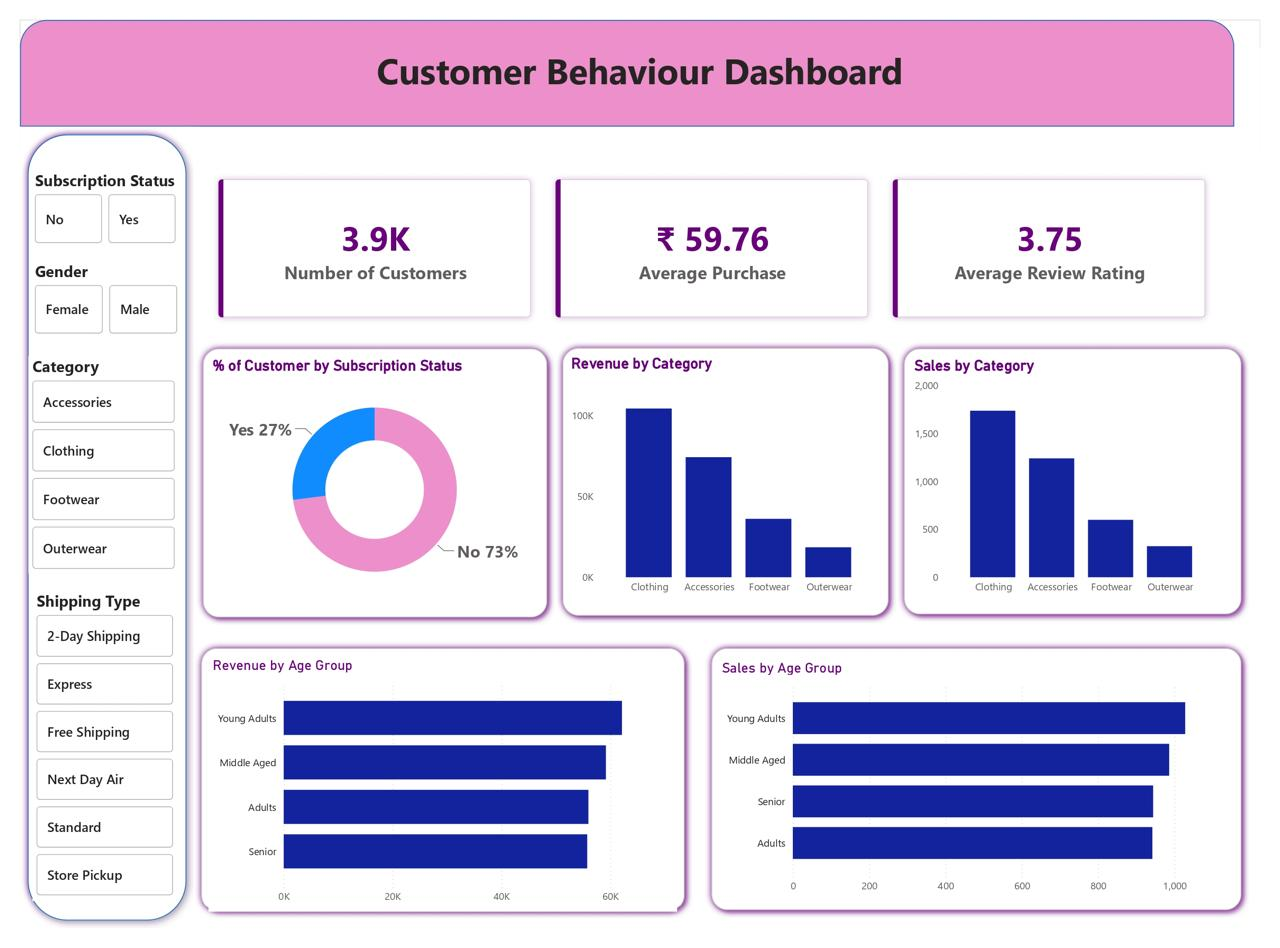

The page's visual inventory and layout, read from the dashboard file:
{"tool":"powerbi","page":{"name":"Page 1","canvas":[1500,1100],"ordinal":0},"visuals":[{"type":"cardVisual","fields":{"Data":["customer_behaviour customer_shopping.Number of Customers","customer_behaviour customer_shopping.Average Purchase","customer_behaviour customer_shopping.Average Review Rating"]},"box":[211.7,165,1250,223.3],"z":0},{"type":"shape","box":[0,0,1468.6,128.6],"z":1000},{"type":"textbox","box":[0,27.1,1500,84.3],"z":2000},{"type":"shape","box":[211.7,388.3,435,343.3],"z":3000},{"type":"donutChart","title":"% of Customer by Subscription Status","fields":{"Category":["customer_behaviour customer_shopping.subscription_status"],"Y":["customer_behaviour customer_shopping.Number of Customers"]},"box":[228.3,406.7,401.7,301.7],"z":4000},{"type":"shape","box":[0,128.6,210,971.4],"z":5000},{"type":"shape","box":[646.7,386.7,413.3,343.3],"z":5000,"group":"g4"},{"type":"advancedSlicerVisual","title":"Subscription Status","fields":{"Values":["customer_behaviour customer_shopping.subscription_status"]},"box":[12.9,181.4,180,94.3],"z":6000},{"type":"shape","box":[1060,388.3,426.7,340],"z":6000,"group":"g3"},{"type":"clusteredColumnChart","title":"Revenue by Category","fields":{"Y":["Sum(customer_behaviour customer_shopping.purchase_amount)"],"Category":["customer_behaviour customer_shopping.category"]},"box":[662.1,403.4,379.9,300.6],"z":6000,"group":"g4"},{"type":"advancedSlicerVisual","title":"Gender","fields":{"Values":["customer_behaviour customer_shopping.gender"]},"box":[12.9,291.4,182.9,92.9],"z":7000},{"type":"advancedSlicerVisual","title":"Category","fields":{"Values":["customer_behaviour customer_shopping.category"]},"box":[10,405.7,182.9,264.3],"z":8000},{"type":"clusteredColumnChart","title":"Sales by Category","fields":{"Category":["customer_behaviour customer_shopping.category"],"Y":["CountNonNull(customer_behaviour customer_shopping.customer_id)"]},"box":[1077.3,407.3,376.5,297.3],"z":8000,"group":"g3"},{"type":"advancedSlicerVisual","title":"Shipping Type","fields":{"Values":["customer_behaviour customer_shopping.shipping_type"]},"box":[15,690,175,376.7],"z":9000},{"type":"group","id":"g1","title":"Group 1","box":[210,750,603.3,338.3],"z":10000},{"type":"group","id":"g2","title":"Group 2","box":[826.7,750,660,336.7],"z":11000},{"type":"group","id":"g3","title":"Group 3","box":[1060,388.3,426.7,340],"z":12000},{"type":"group","id":"g4","title":"Group 4","box":[646.7,386.7,413.3,343.3],"z":13000},{"type":"shape","box":[210,750,603.3,338.3],"z":14000,"group":"g1"},{"type":"shape","box":[826.7,750,660,336.7],"z":15000,"group":"g2"},{"type":"clusteredBarChart","title":"Revenue by Age Group","fields":{"Y":["Sum(customer_behaviour customer_shopping.purchase_amount)"],"Category":["customer_behaviour customer_shopping.age_group"]},"box":[228.3,769.6,566.7,310.3],"z":16000,"group":"g1"},{"type":"clusteredBarChart","title":"Sales by Age Group","fields":{"Category":["customer_behaviour customer_shopping.age_group"],"Y":["CountNonNull(customer_behaviour customer_shopping.customer_id)"]},"box":[843.9,772.7,618.3,293.9],"z":17000,"group":"g2"}]}

Visuals, with their boxes in screenshot pixels (x1, y1, x2, y2), scaled from the page's 1500x1100 canvas onto the 1280x948 screenshot:
cardVisual - customer_behaviour customer_shopping.Number of Customers x customer_behaviour customer_shopping.Average Purchase: bbox=[181, 142, 1247, 335]
shape: bbox=[0, 0, 1253, 111]
textbox: bbox=[0, 23, 1279, 96]
shape: bbox=[181, 335, 552, 631]
"% of Customer by Subscription Status" donutChart: bbox=[195, 351, 538, 611]
shape: bbox=[0, 111, 179, 947]
shape: bbox=[552, 333, 905, 629]
"Subscription Status" advancedSlicerVisual: bbox=[11, 156, 165, 238]
shape: bbox=[905, 335, 1269, 628]
"Revenue by Category" clusteredColumnChart: bbox=[565, 348, 889, 607]
"Gender" advancedSlicerVisual: bbox=[11, 251, 167, 331]
"Category" advancedSlicerVisual: bbox=[9, 350, 165, 577]
"Sales by Category" clusteredColumnChart: bbox=[919, 351, 1241, 607]
"Shipping Type" advancedSlicerVisual: bbox=[13, 595, 162, 919]
"Group 1" group: bbox=[179, 646, 694, 938]
"Group 2" group: bbox=[705, 646, 1269, 937]
"Group 3" group: bbox=[905, 335, 1269, 628]
"Group 4" group: bbox=[552, 333, 905, 629]
shape: bbox=[179, 646, 694, 938]
shape: bbox=[705, 646, 1269, 937]
"Revenue by Age Group" clusteredBarChart: bbox=[195, 663, 678, 931]
"Sales by Age Group" clusteredBarChart: bbox=[720, 666, 1248, 919]
